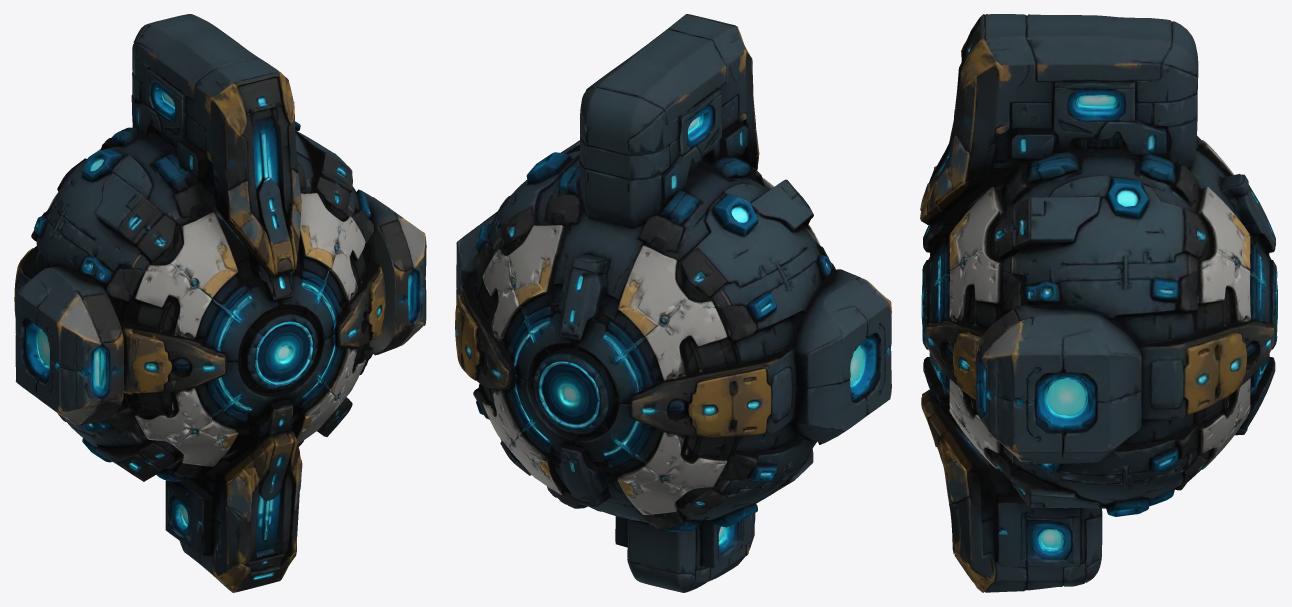
File: pet-drone-lv5.glb
The picture shows the model from 3 angles, left to right: view 1: azimuth 30°, elevation 25°; view 2: azimuth 150°, elevation 25°; view 3: azimuth 270°, elevation 25°; orthographic projection. The views are drawn at different scales.
Parts seen in each view (by area): view 1: tripo_node_33857455-60a4-4ca8-a4e5-7e674776cbe3; view 2: tripo_node_33857455-60a4-4ca8-a4e5-7e674776cbe3; view 3: tripo_node_33857455-60a4-4ca8-a4e5-7e674776cbe3.
Boxes of the visible parts, <box> form: tripo_node_33857455-60a4-4ca8-a4e5-7e674776cbe3: <box>14,14,426,592</box>; tripo_node_33857455-60a4-4ca8-a4e5-7e674776cbe3: <box>455,14,891,592</box>; tripo_node_33857455-60a4-4ca8-a4e5-7e674776cbe3: <box>920,14,1277,592</box>.
Bounding box in the file's own units: 0.7401 × 0.9809 × 0.572.
Materials: 1 (1 with a texture image).
